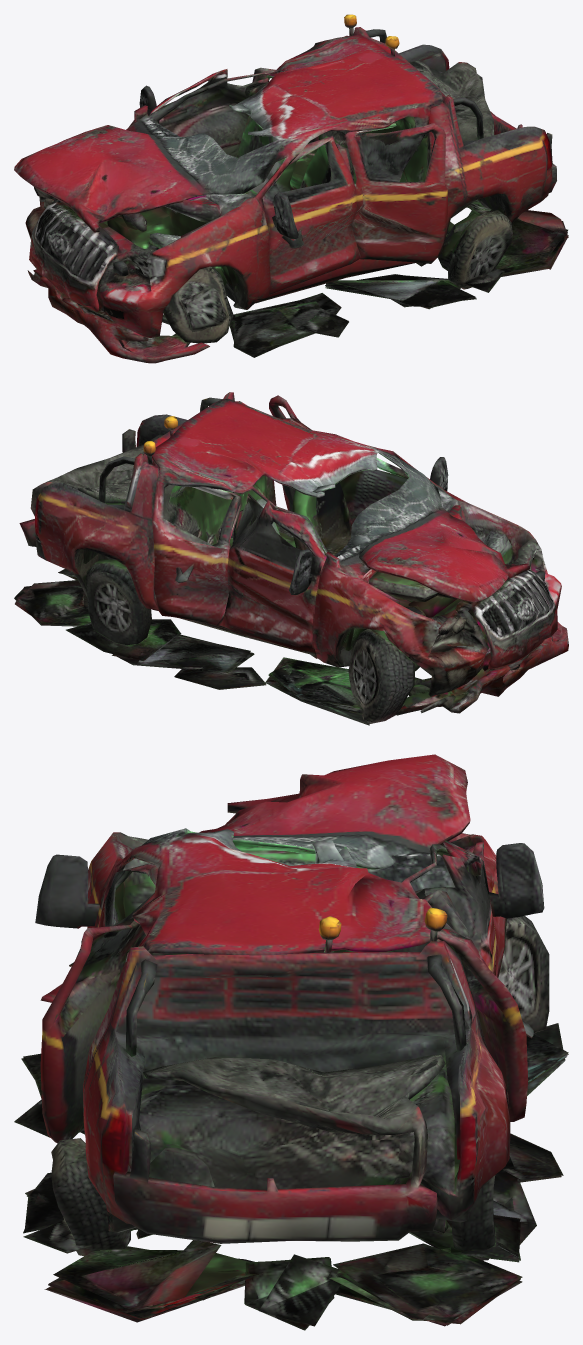
The model's file is maxusChocada.glb.
3 views of the same model, one above another, from view 1: azimuth 30°, elevation 25°; view 2: azimuth 150°, elevation 25°; view 3: azimuth 270°, elevation 25° (orthographic). The views are drawn at different scales.
Visible parts, largest first — view 1: mesh_node; view 2: mesh_node; view 3: mesh_node.
Part boxes in pixels (x1,y1,x2,y2): mesh_node: (14, 14, 568, 363); mesh_node: (14, 392, 568, 725); mesh_node: (14, 754, 568, 1330).
Size of the model in its own units: 1 by 0.3994 by 0.6113.
1 material, 1 textured.
